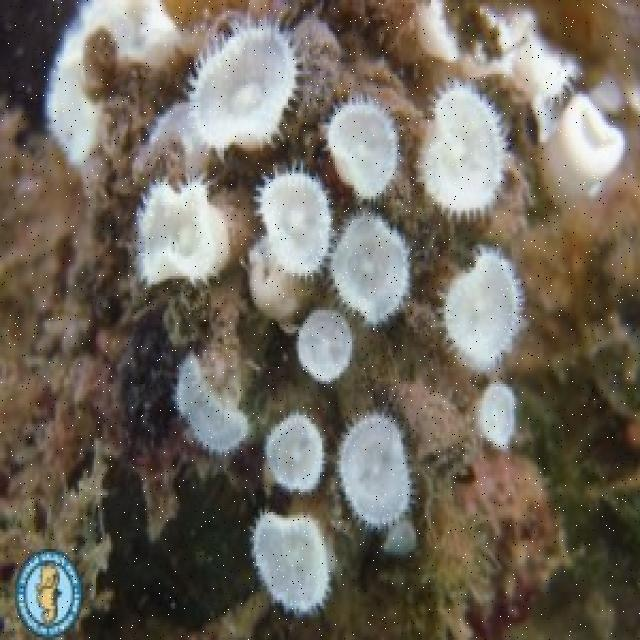Bleached: (41, 1, 161, 145), (196, 21, 294, 143), (427, 89, 501, 213), (254, 175, 318, 311), (144, 180, 219, 284), (442, 256, 511, 368), (541, 112, 620, 202), (343, 411, 403, 528), (341, 210, 408, 314), (259, 521, 325, 610), (338, 97, 403, 187), (178, 360, 244, 447), (497, 23, 572, 95), (416, 1, 463, 73), (271, 415, 318, 483), (302, 309, 345, 383), (478, 376, 523, 440)
Healthy: (1, 206, 127, 640), (527, 226, 638, 640), (424, 446, 560, 640), (107, 63, 165, 129)
